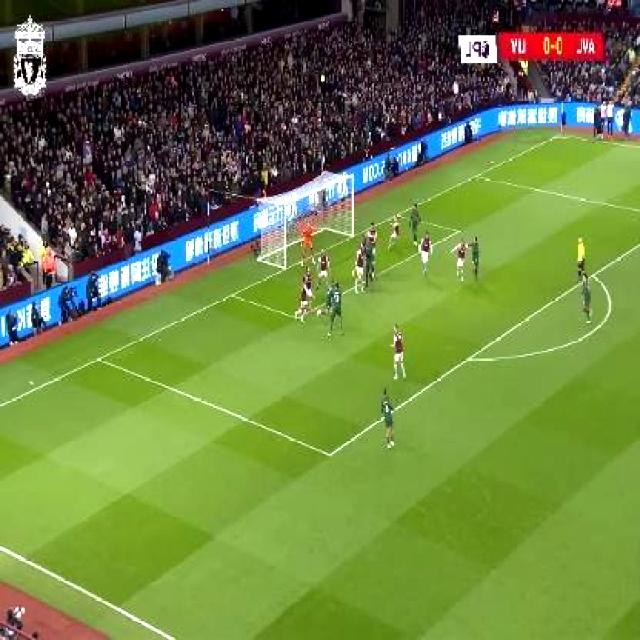bigarea_bottom_inner: (320, 438, 342, 468)
bigarea_bottom_outter: (92, 348, 108, 368)
bigarea_top_outter: (470, 166, 484, 182)
bottom_arc_area_intersection: (462, 346, 478, 368)
corner: (554, 126, 572, 142)
smallarea_bottom_inner: (290, 304, 308, 324)
smallarea_bottom_outter: (226, 285, 242, 303)
smallarea_top_inner: (452, 220, 468, 237)
smallarea_top_outter: (389, 206, 405, 223)
top_arc_area_intersection: (588, 264, 602, 282)
